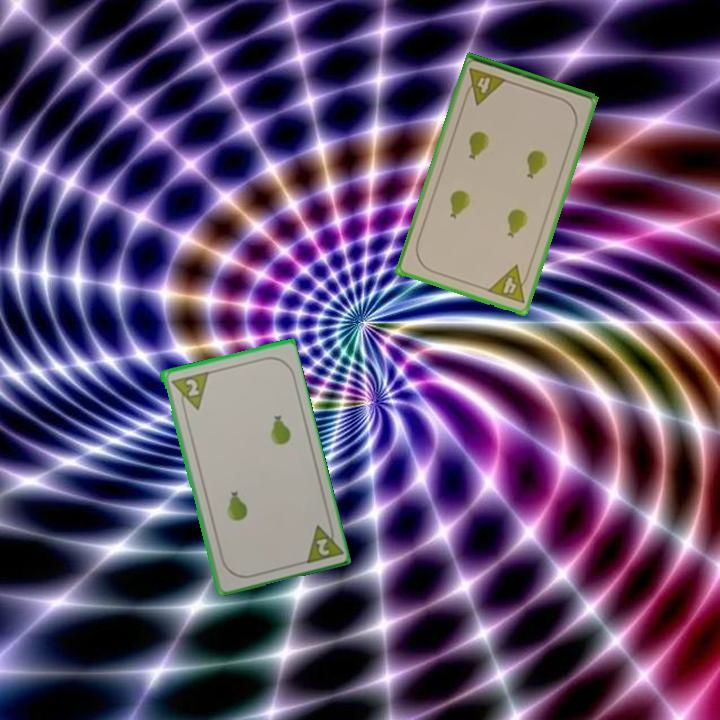2p: (300, 517, 344, 566), (167, 368, 210, 415)
4p: (484, 262, 534, 307), (461, 64, 509, 108)
